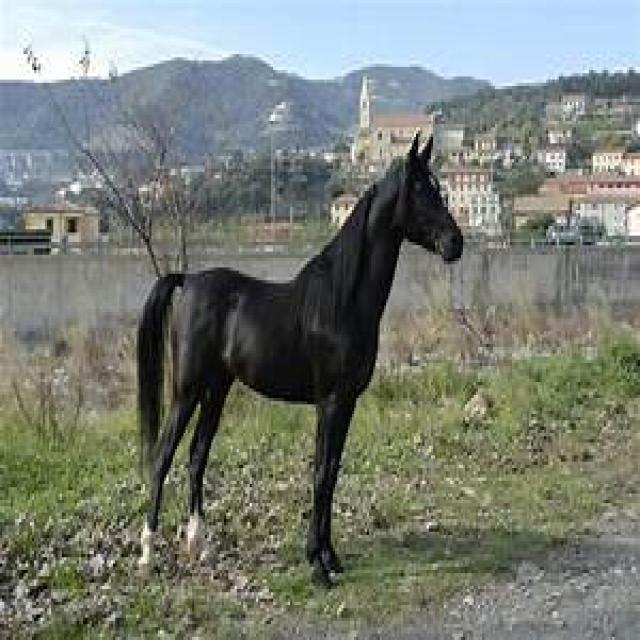animal: (132, 134, 465, 576)
